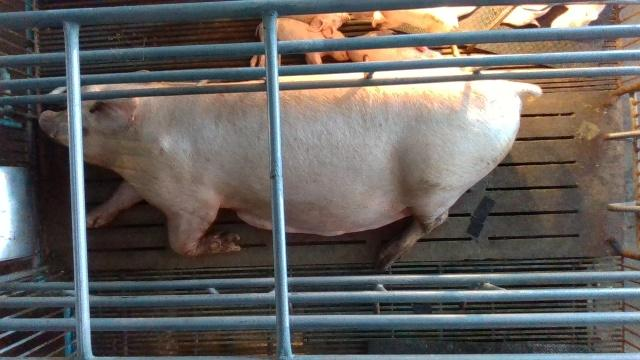piglet: (251, 18, 349, 68), (349, 47, 443, 61)
sow-sleep: (38, 67, 542, 267)
